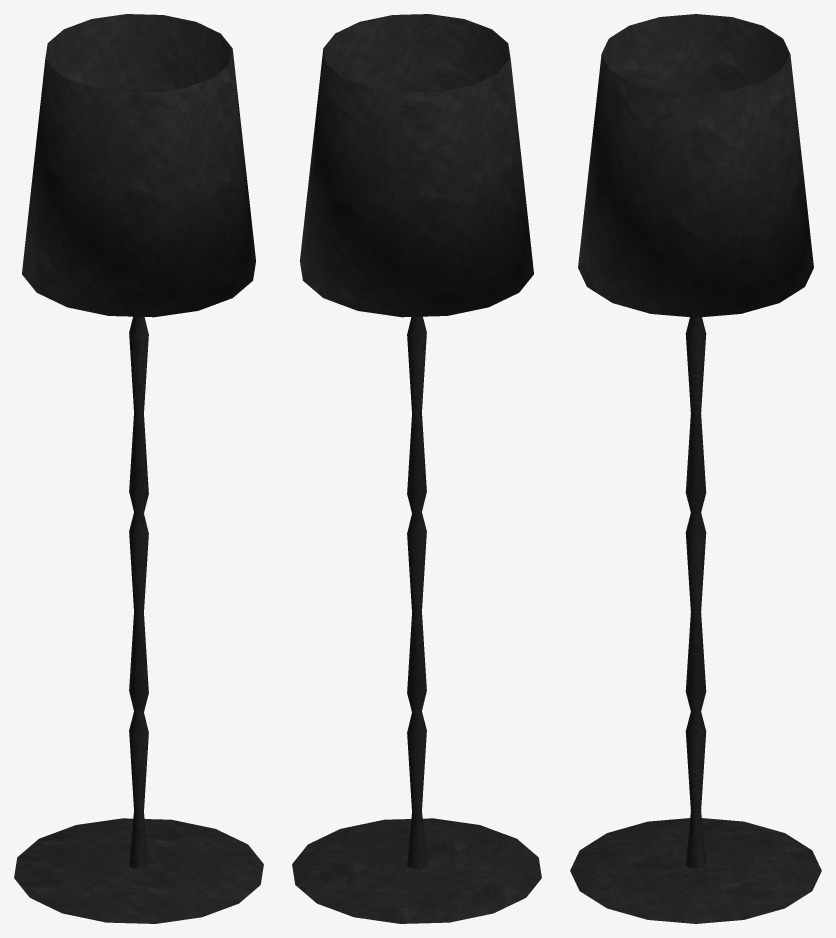
The model's file is Stehlampe.fbx.
3 renders of one model, left to right at view 1: azimuth 30°, elevation 25°; view 2: azimuth 150°, elevation 25°; view 3: azimuth 270°, elevation 25°, orthographic.
Visible parts, largest first — view 1: Stehlampe; view 2: Stehlampe; view 3: Stehlampe.
Part boxes in pixels (x1,y1,x2,y2): Stehlampe: [14, 14, 263, 923]; Stehlampe: [292, 14, 541, 923]; Stehlampe: [570, 14, 821, 923].
Bounding box in the file's own units: 0.4751 × 1.7 × 0.4751.
